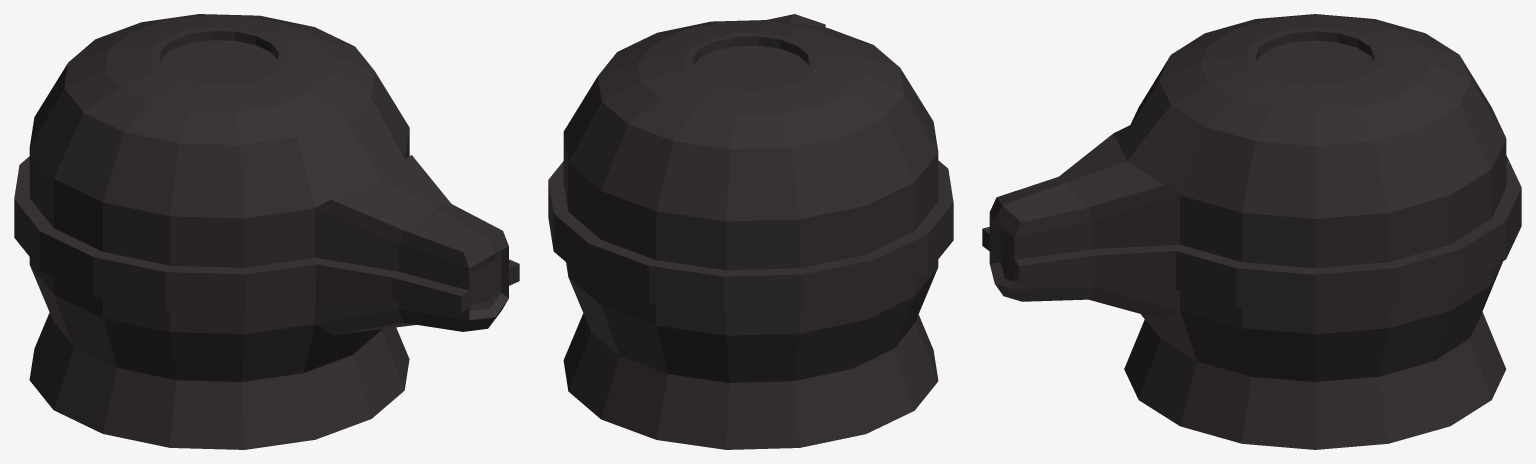
Rendered from Shooter.fbx.
3 renders of one model, left to right at view 1: azimuth 30°, elevation 25°; view 2: azimuth 150°, elevation 25°; view 3: azimuth 270°, elevation 25°, orthographic.
Visible parts, largest first — view 1: Shooter; view 2: Shooter; view 3: Shooter.
Boxes of the visible parts, bbox=[...] form: Shooter: bbox=[14, 14, 519, 449]; Shooter: bbox=[548, 14, 953, 449]; Shooter: bbox=[982, 14, 1521, 449].
Bounding box in the file's own units: 216 × 181 × 282.
